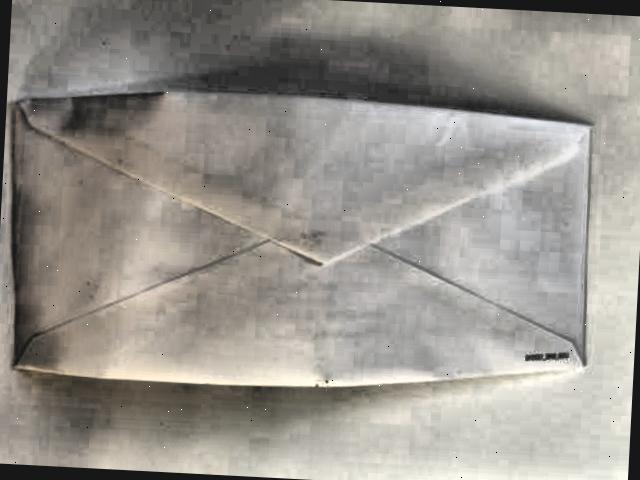Paper: (0, 97, 624, 480)
